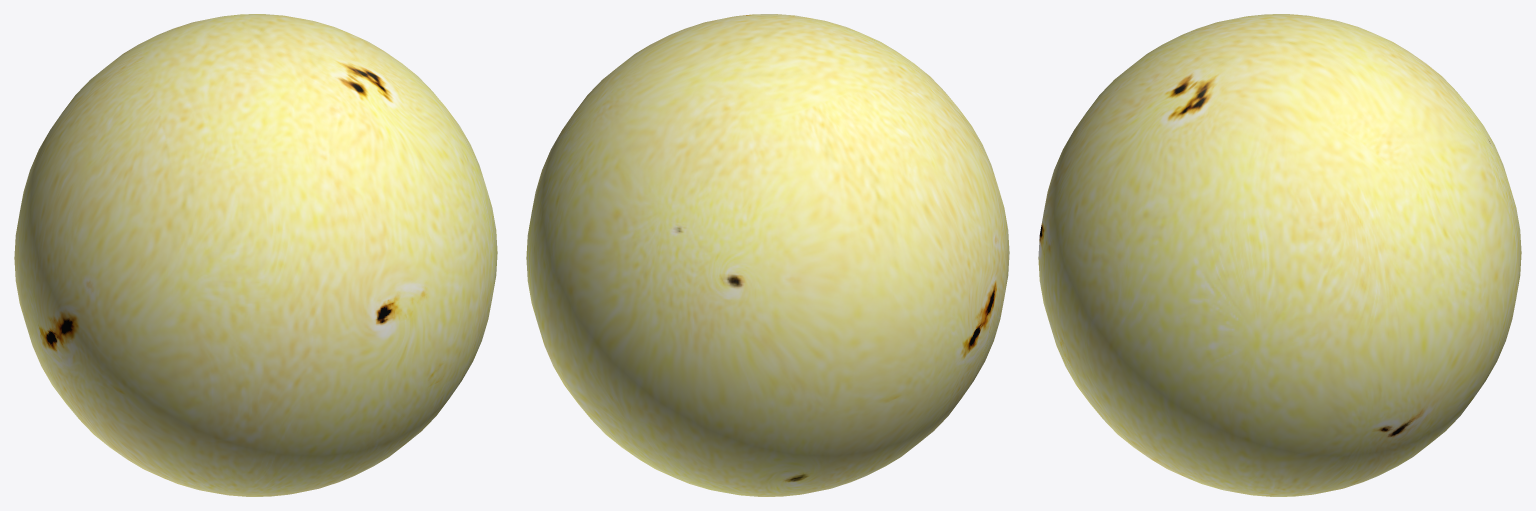
The model's file is sun.obj.
The picture shows the model from 3 angles, left to right: view 1: azimuth 30°, elevation 25°; view 2: azimuth 150°, elevation 25°; view 3: azimuth 270°, elevation 25°; orthographic projection.
Size of the model in its own units: 1.99 by 2 by 2.
Materials: 1 (1 with a texture image).
